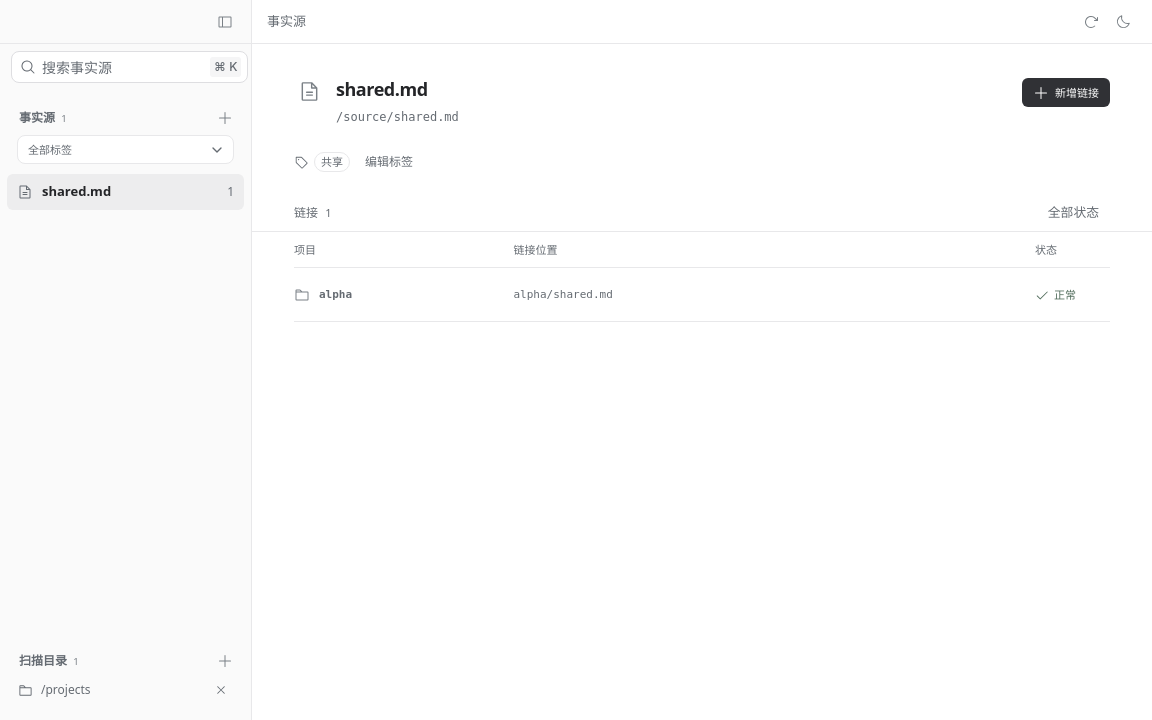
keeps the same sidebar control through collapse and expansion
The image size is (1152, 720).
Expected: the heading "shared.md" is shown, x1=336 y1=77 x2=428 y2=101
Click the button named "收起侧栏" at (225, 22), box x1=211 y1=8 x2=239 y2=36
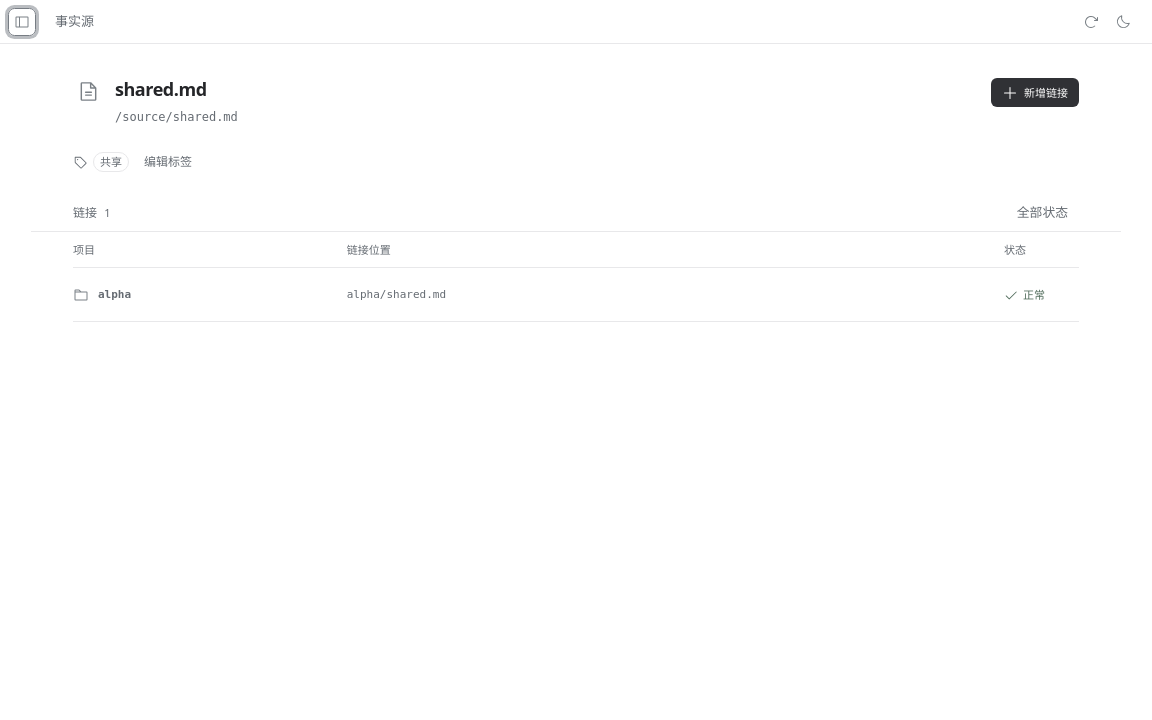
Now the button named "展开侧栏" is collapsed
Now the navigation bar "事实源列表" is gone
Click the button named "展开侧栏" at (22, 22), box x1=8 y1=8 x2=36 y2=36
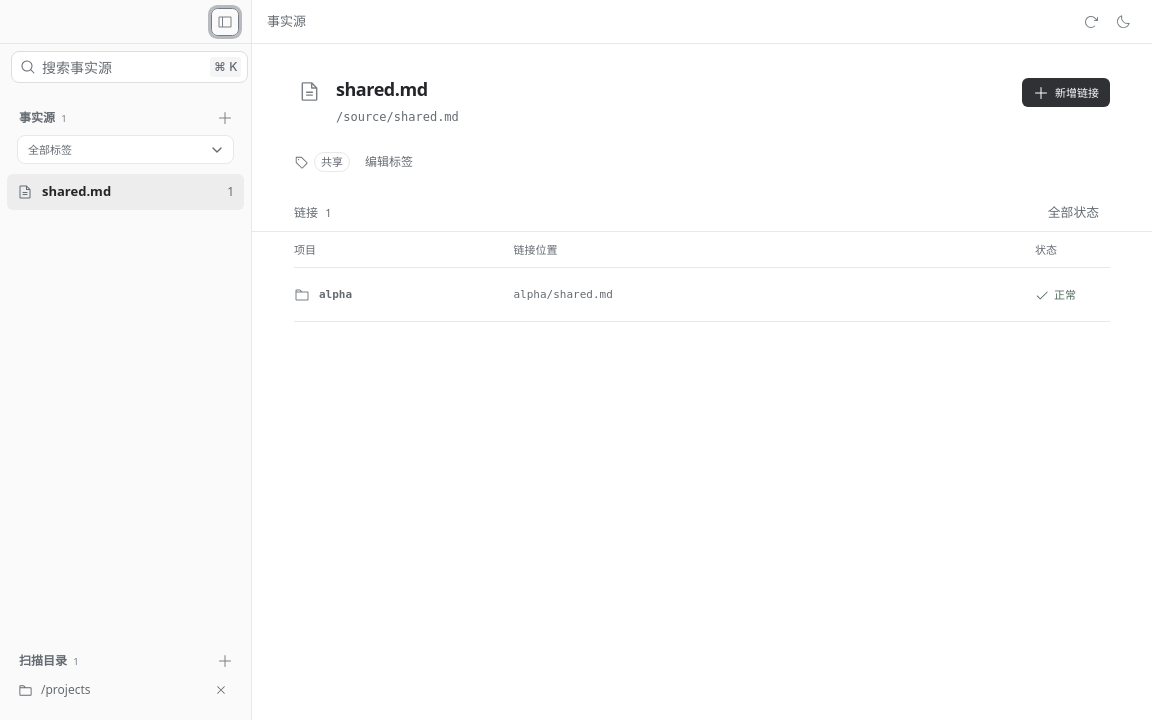
Now the button named "收起侧栏" is expanded, box x1=211 y1=8 x2=239 y2=36
Now the navigation bar named "事实源列表" is shown, box x1=7 y1=174 x2=244 y2=210
